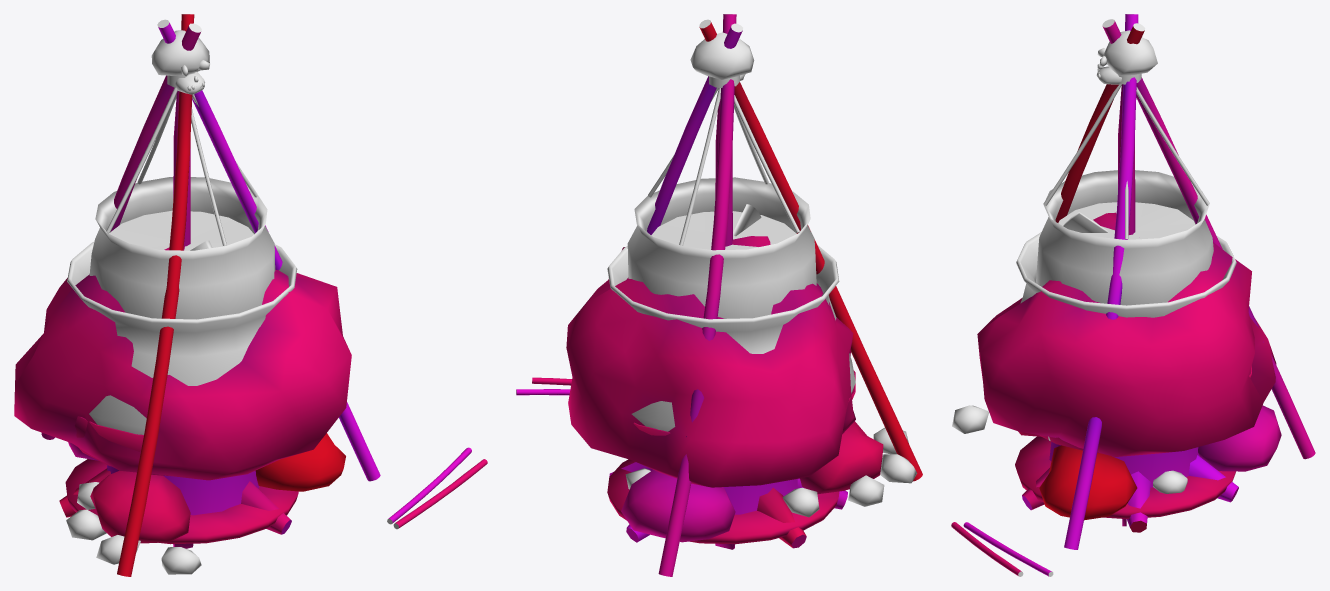
The model's file is court_exec_props.glb.
3 renders of one model, left to right at view 1: azimuth 30°, elevation 25°; view 2: azimuth 150°, elevation 25°; view 3: azimuth 270°, elevation 25°, orthographic. The views are drawn at different scales.
Visible parts, largest first — view 1: boulder, cook_bag, cook_pot, cook_pot_lid, block, skull_stake; view 2: boulder, cook_bag, cook_pot, cook_pot_lid, block, skull_stake; view 3: boulder, cook_bag, cook_pot, cook_pot_lid, block, skull_stake, axe_bronze.
Boxes of the visible parts, <box> form: boulder: <box>14,246,351,480</box>; cook_bag: <box>41,14,487,576</box>; cook_pot: <box>67,242,345,543</box>; cook_pot_lid: <box>65,459,298,544</box>; block: <box>59,465,291,534</box>; skull_stake: <box>151,30,209,246</box>; boulder: <box>566,236,855,487</box>; cook_bag: <box>516,14,922,576</box>; cook_pot: <box>607,244,883,542</box>; cook_pot_lid: <box>607,459,839,544</box>; block: <box>609,462,847,548</box>; skull_stake: <box>690,32,754,246</box>; boulder: <box>977,212,1276,456</box>; cook_bag: <box>951,14,1315,576</box>; cook_pot: <box>1016,232,1281,520</box>; cook_pot_lid: <box>1015,436,1235,518</box>; block: <box>1022,442,1238,532</box>; skull_stake: <box>1096,30,1157,234</box>; axe_bronze: <box>1063,212,1131,235</box>.
Size of the model in its own units: 1.4 by 1.84 by 1.21.
